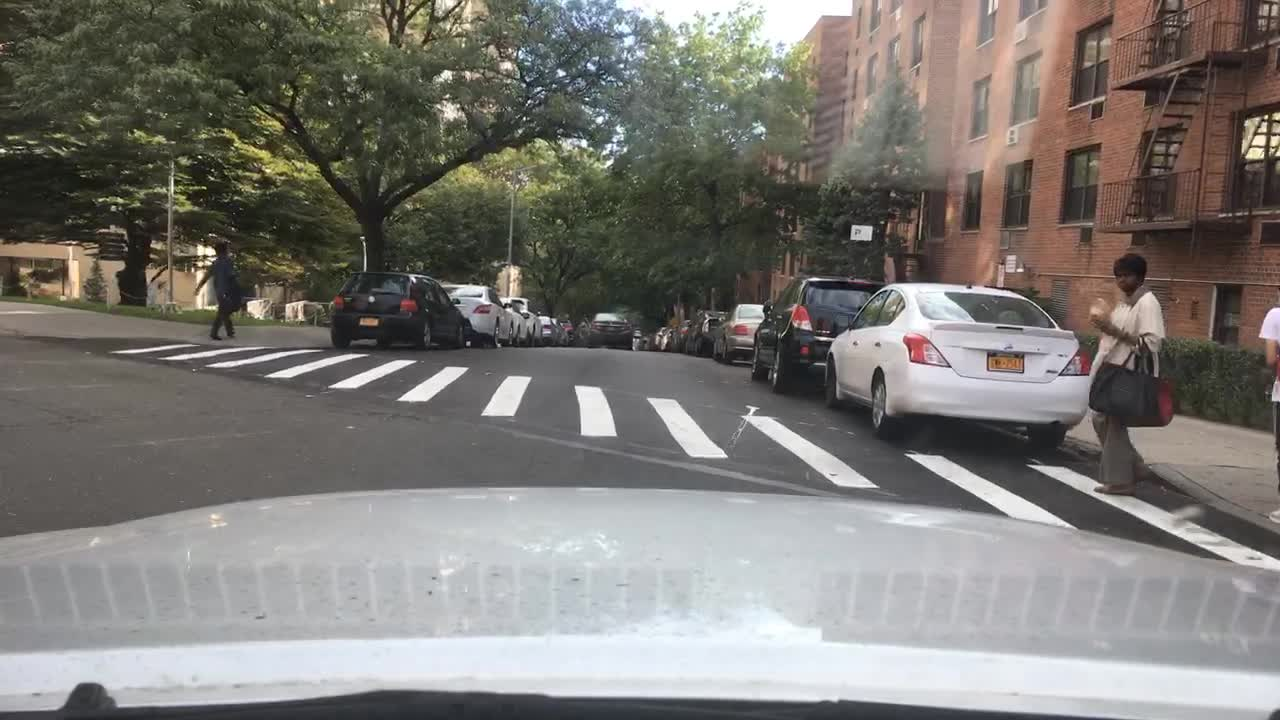car: (819, 278, 1094, 446), (749, 274, 895, 393), (324, 270, 467, 350), (441, 281, 519, 345), (712, 303, 768, 363), (582, 310, 636, 349), (685, 310, 724, 356), (500, 298, 526, 343), (677, 319, 703, 353), (536, 311, 560, 346), (521, 309, 537, 344), (557, 318, 576, 346), (632, 329, 651, 349), (665, 328, 680, 350), (653, 326, 665, 346)
person: (1084, 254, 1180, 494), (192, 239, 245, 343), (1255, 300, 1277, 529)
traffic sign: (849, 224, 872, 241), (1002, 254, 1018, 272)
